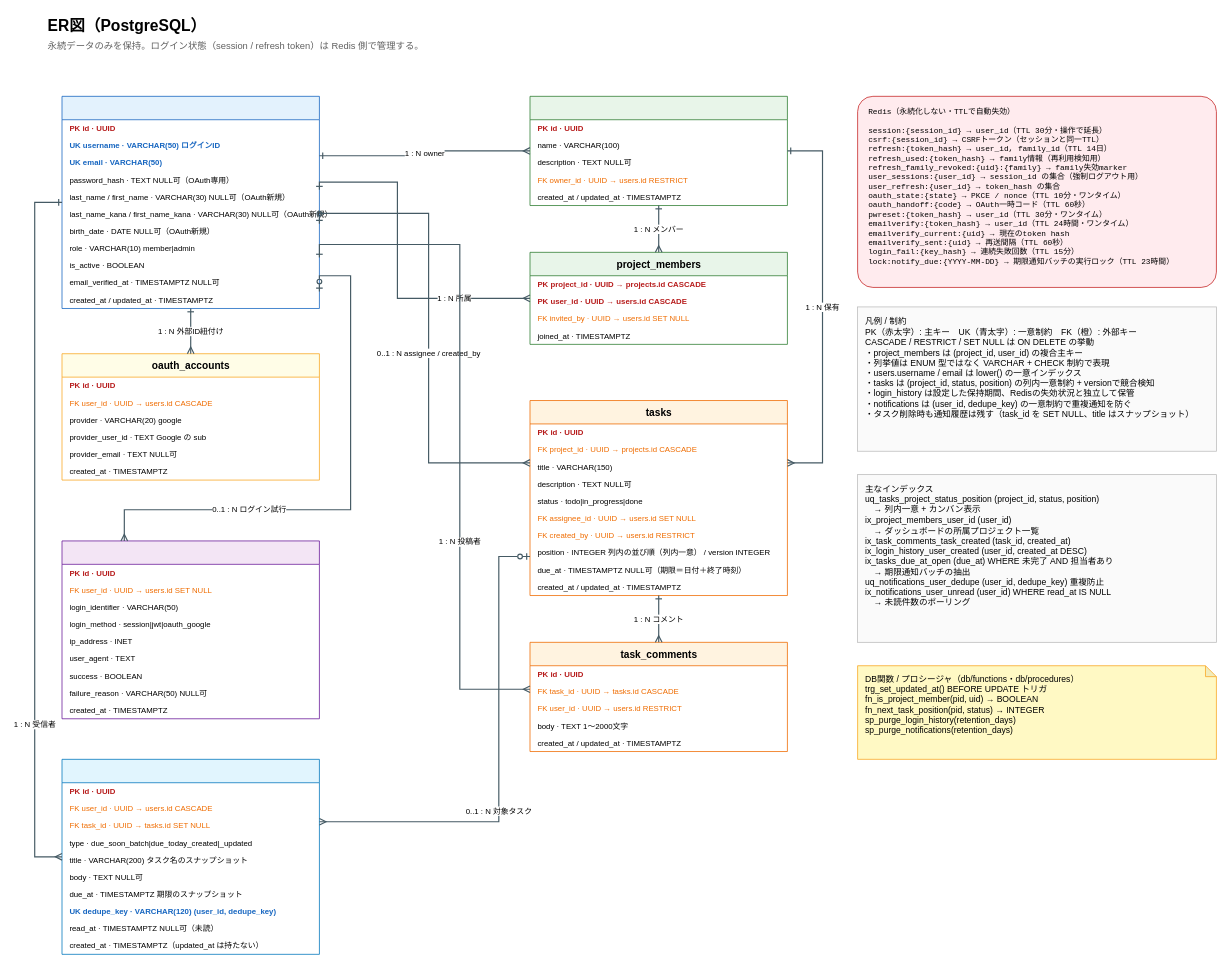
The diagram is 1230 pixels wide and 968 high, and some of its shapes have lost their labels. The box of each missing label's shape, as (x1, y1, x2, y2) in pixels:
login_history: (61, 540, 319, 719)
notifications: (61, 759, 319, 954)
projects: (529, 96, 787, 206)
users: (61, 96, 319, 308)
